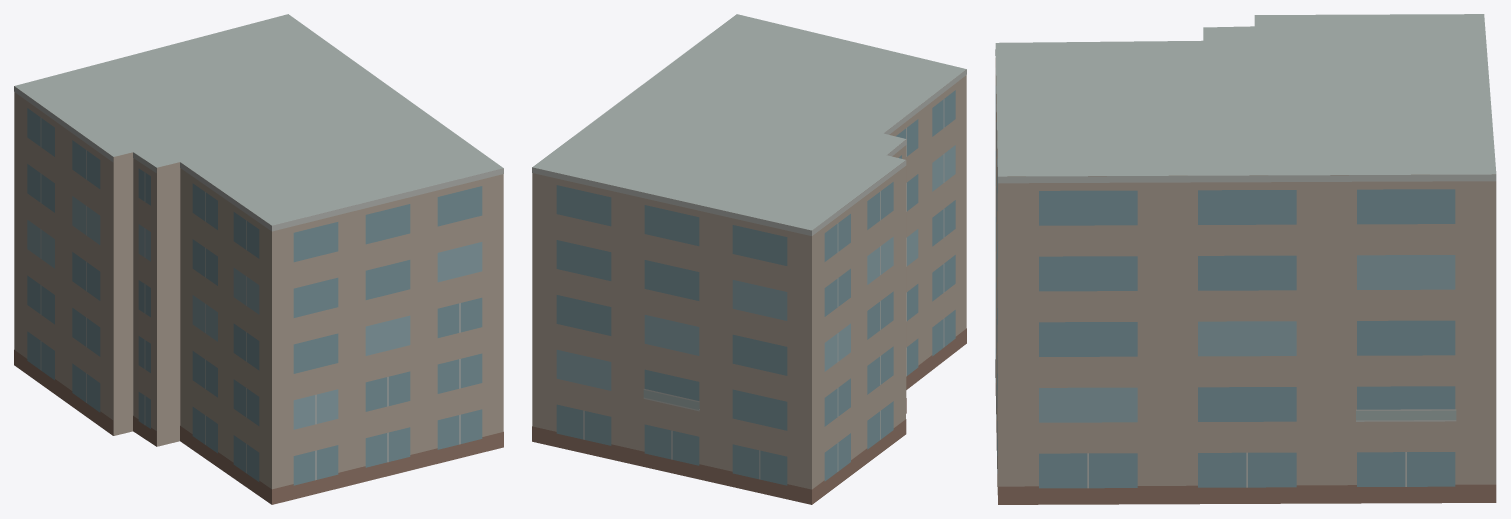
The model's file is survey-upis-32465796.glb.
3 renders of one model, left to right at view 1: azimuth 30°, elevation 25°; view 2: azimuth 150°, elevation 25°; view 3: azimuth 270°, elevation 25°, orthographic. The views are drawn at different scales.
Parts seen in each view (by area): view 1: survey-upis-32465796.tmp; view 2: survey-upis-32465796.tmp; view 3: survey-upis-32465796.tmp.
Boxes of the visible parts, bbox=[...] form: survey-upis-32465796.tmp: bbox=[14, 14, 503, 504]; survey-upis-32465796.tmp: bbox=[532, 14, 966, 504]; survey-upis-32465796.tmp: bbox=[995, 14, 1496, 504].
Size of the model in its own units: 12.53 by 11.8 by 16.32.
